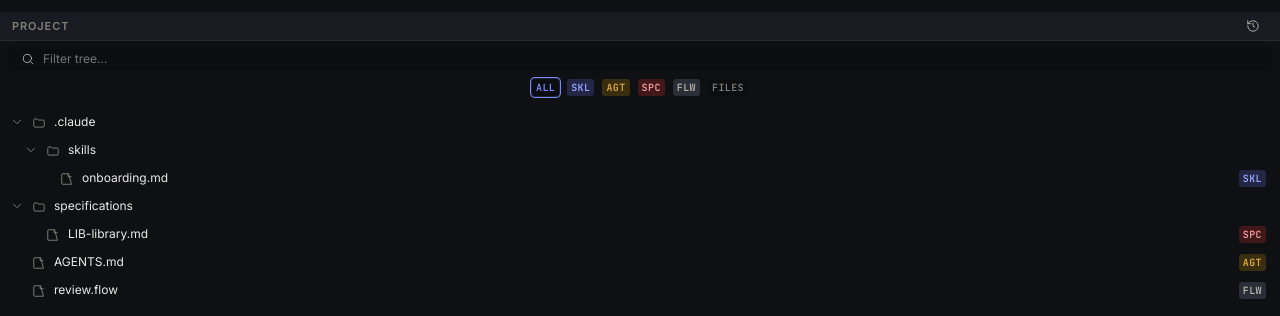
Library filesystem tree › reloads on the project-tree-changed event, preserving expand state
This screenshot has width=1280, height=316.
Expected: the text "onboarding.md" is shown, [82,170,168,185]
Step 1. Click the text ".claude" → (75, 122), box [54,114,95,129]
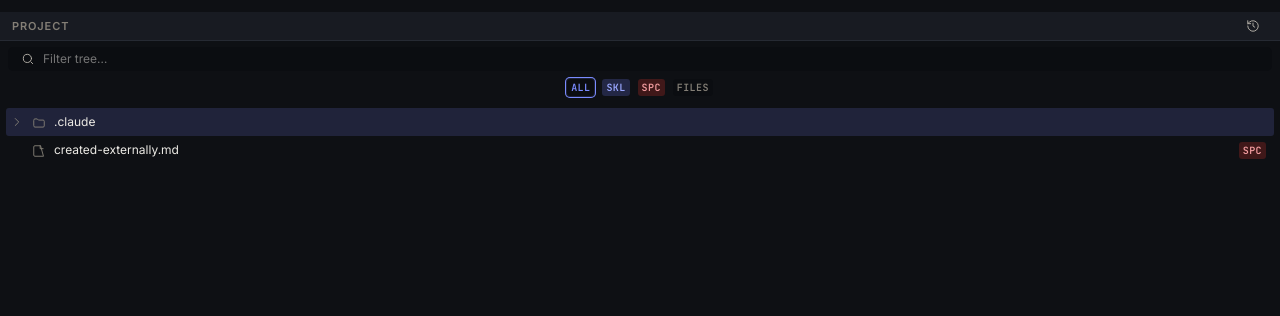
Now the text "created-externally.md" is shown, box [54,142,179,157]
Now the text "onboarding.md" is gone
